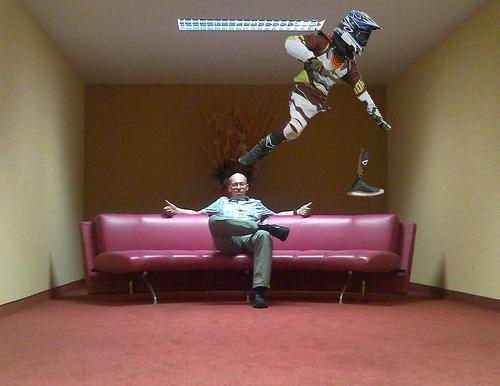tampered: (239, 11, 391, 197)
